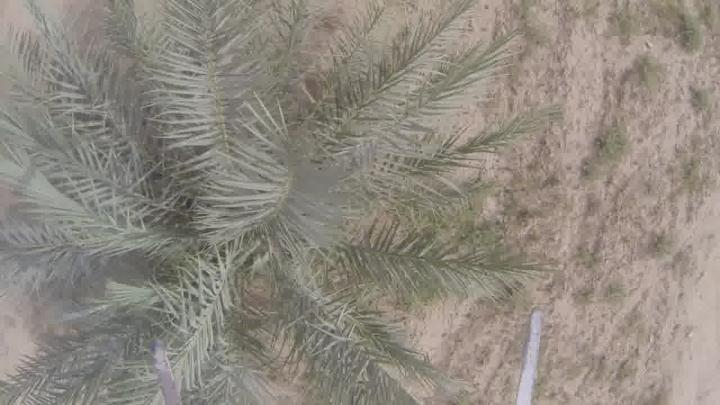Date-Palm-Crown: (34, 48, 402, 404)
